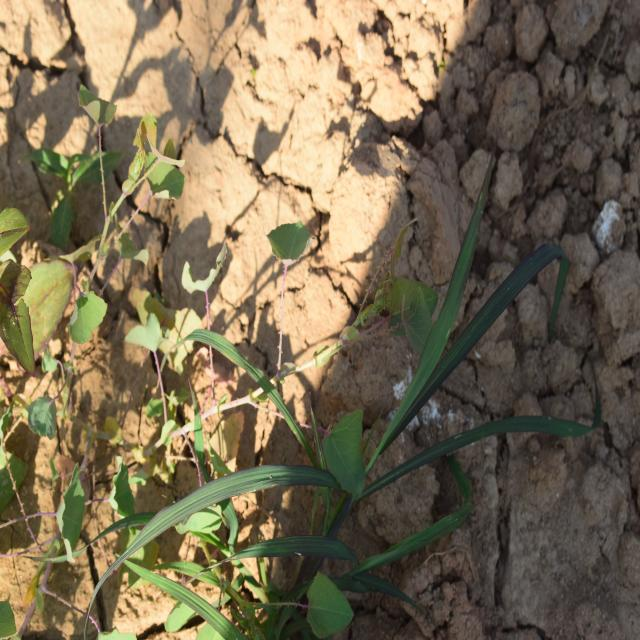Asiatic_Smartweed: (72, 78, 192, 216), (351, 229, 443, 359)
